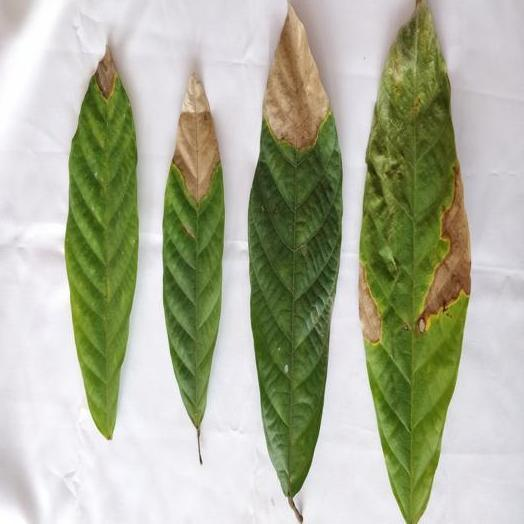Potassium: (360, 0, 470, 523), (249, 6, 342, 522), (65, 47, 138, 439), (162, 74, 224, 464)
